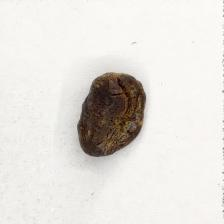NG: (79, 71, 146, 157)
